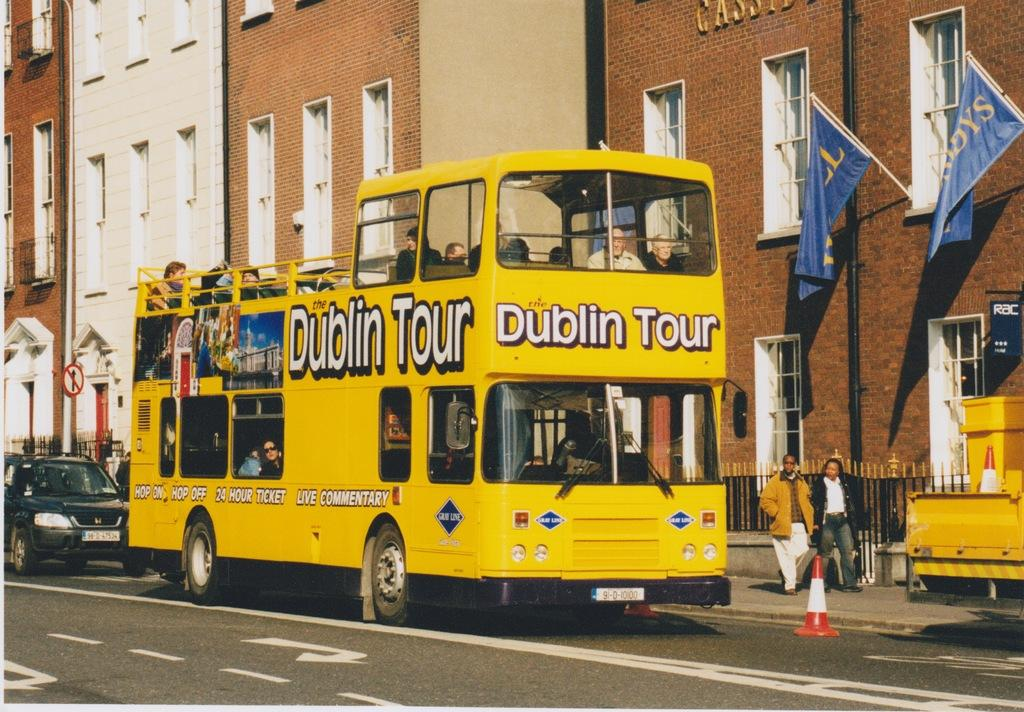vehicle: (128, 150, 749, 625), (6, 452, 146, 577)
